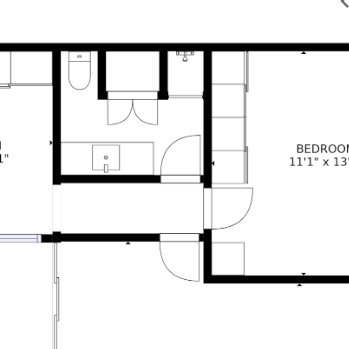door: (195, 183, 259, 236), (156, 229, 202, 290), (157, 134, 204, 186)
double door: (102, 87, 164, 132)
